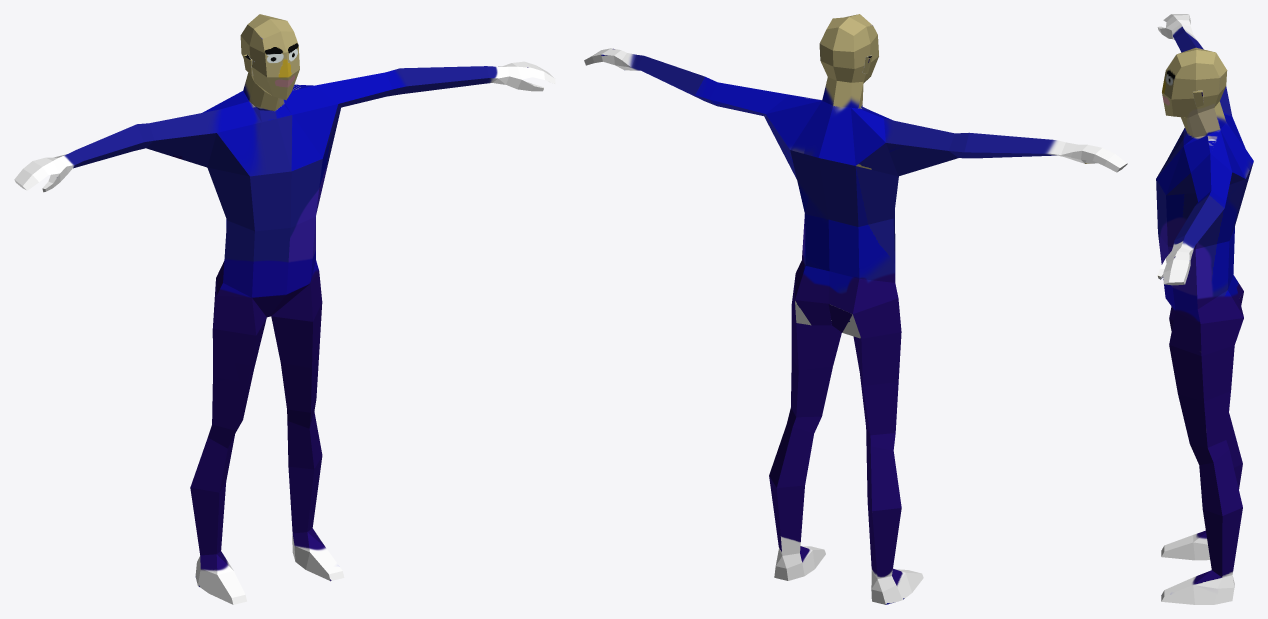
Rendered from enemy_blender.fbx.
3 renders of one model, left to right at view 1: azimuth 30°, elevation 25°; view 2: azimuth 150°, elevation 25°; view 3: azimuth 270°, elevation 25°, orthographic. The views are drawn at different scales.
Visible parts, largest first — view 1: Cylinder; view 2: Cylinder; view 3: Cylinder.
Boxes of the visible parts, x1,y1,x2,y2 form: Cylinder: (14, 14, 555, 604); Cylinder: (584, 14, 1127, 604); Cylinder: (1156, 14, 1253, 604).
Bounding box in the file's own units: 296 × 296 × 49.86.
Materials: 1 (1 with a texture image).
